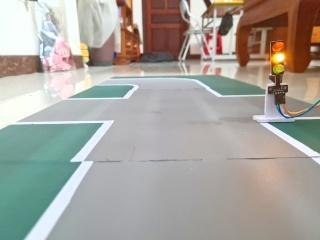yellow: (263, 33, 294, 84)
